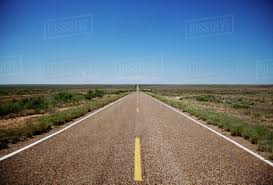strada: (70, 93, 224, 185)
